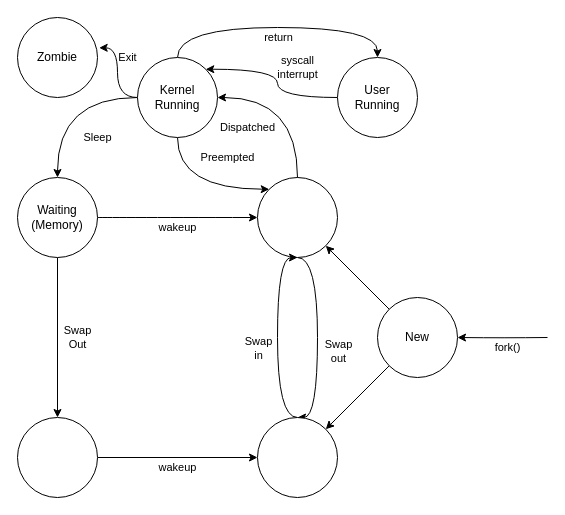
Some shapes in this 565 by 515 pixel diagram are drawn without their labels. The centre of each missing label's shape, as x and y in pixels:
Ready to Run (Disk): pixel 297 457
Ready to Run (Memory): pixel 297 217
Waiting (Disk): pixel 57 457
